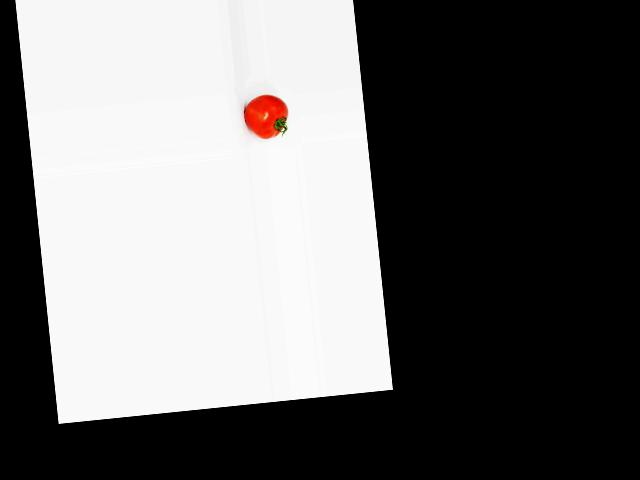tomato: (242, 92, 291, 140)
